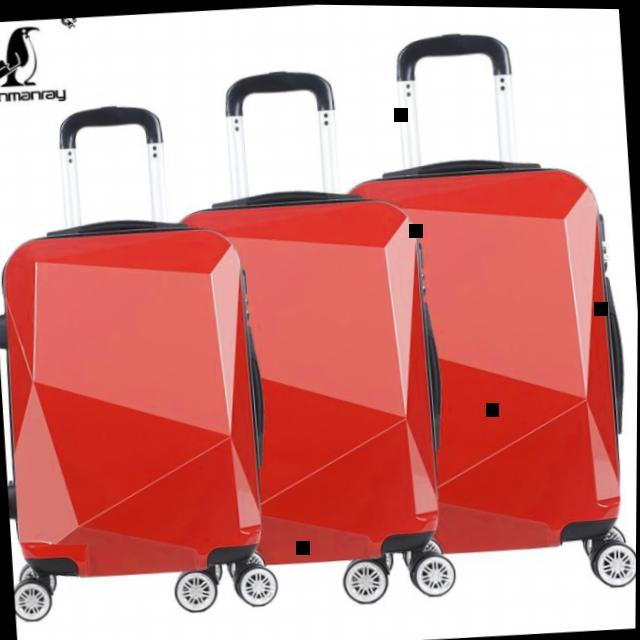luggage: (340, 143, 639, 561), (174, 174, 460, 579), (0, 204, 281, 589)
